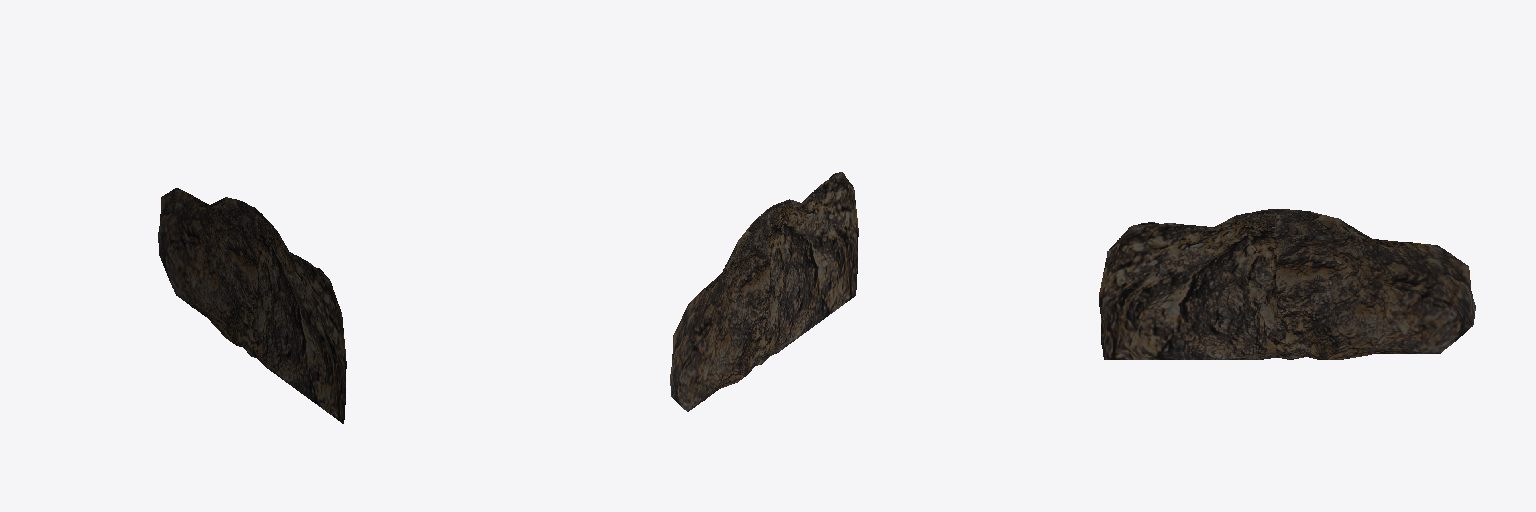
The picture shows the model from 3 angles: view 1: azimuth 30°, elevation 25°; view 2: azimuth 150°, elevation 25°; view 3: azimuth 270°, elevation 25°; orthographic projection.
Visible parts, largest first — view 1: Plane_Plane.003; view 2: Plane_Plane.003; view 3: Plane_Plane.003.
Boxes of the visible parts, x1=… form: Plane_Plane.003: x1=158, y1=188, x2=346, y2=423; Plane_Plane.003: x1=670, y1=172, x2=858, y2=411; Plane_Plane.003: x1=1099, y1=209, x2=1475, y2=359.
Bounding box in the file's own units: 0 × 2.08 × 3.72.
Materials: 1 (1 with a texture image).